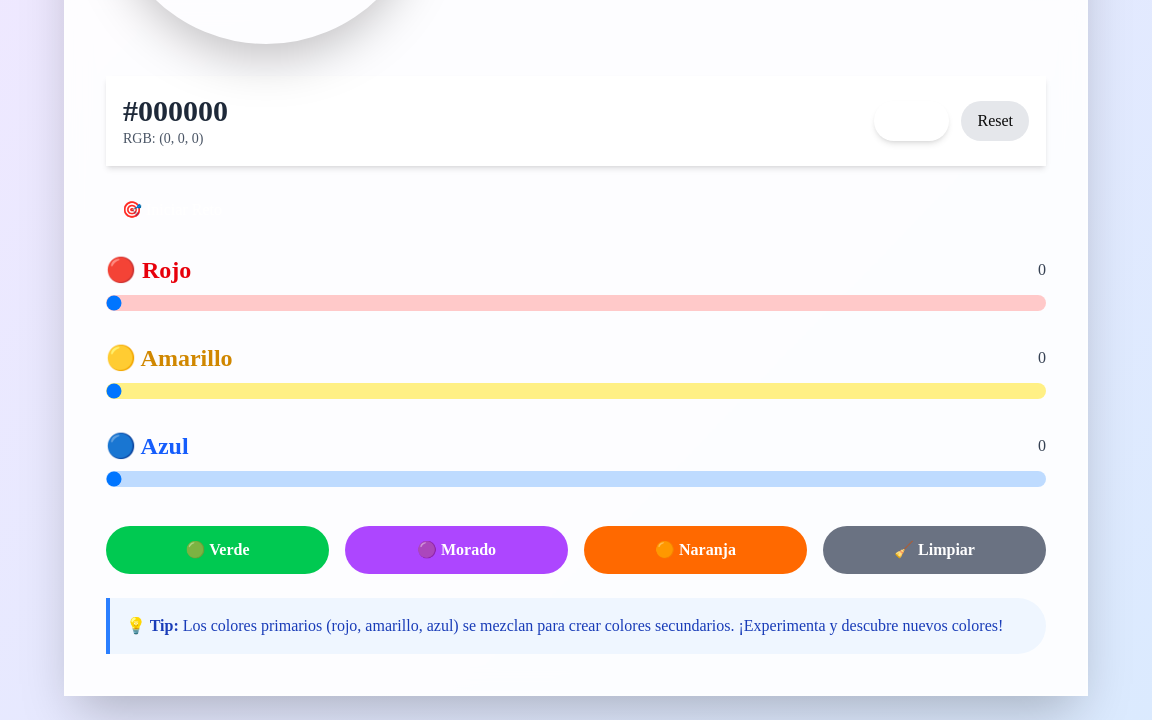
Test: ColorMixer Component › debe aplicar preset morado correctamente
(page scrolled)
Click the button with test id "preset-purple".
click(456, 550)  # box [345, 526, 568, 574]
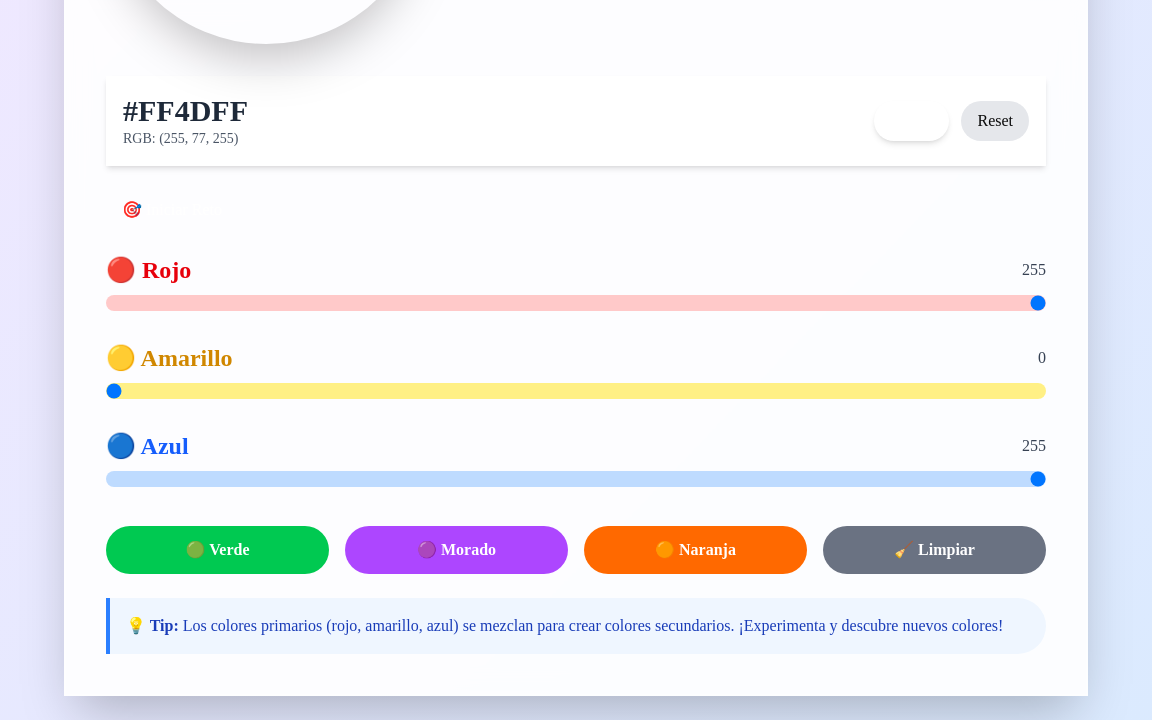
Check: the slider with test id "yellow-slider" holds "0", box [106, 383, 1046, 399]
Check: the slider with test id "red-slider" holds "255", box [106, 295, 1046, 311]
Check: the slider with test id "blue-slider" holds "255", box [106, 471, 1046, 487]
